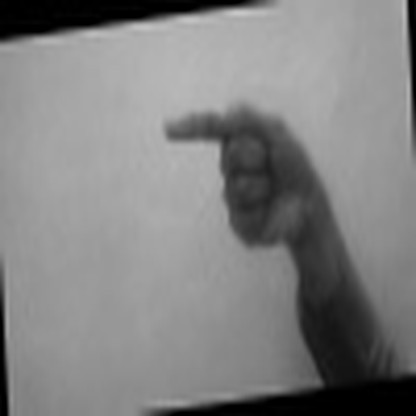g: (151, 90, 330, 249)
